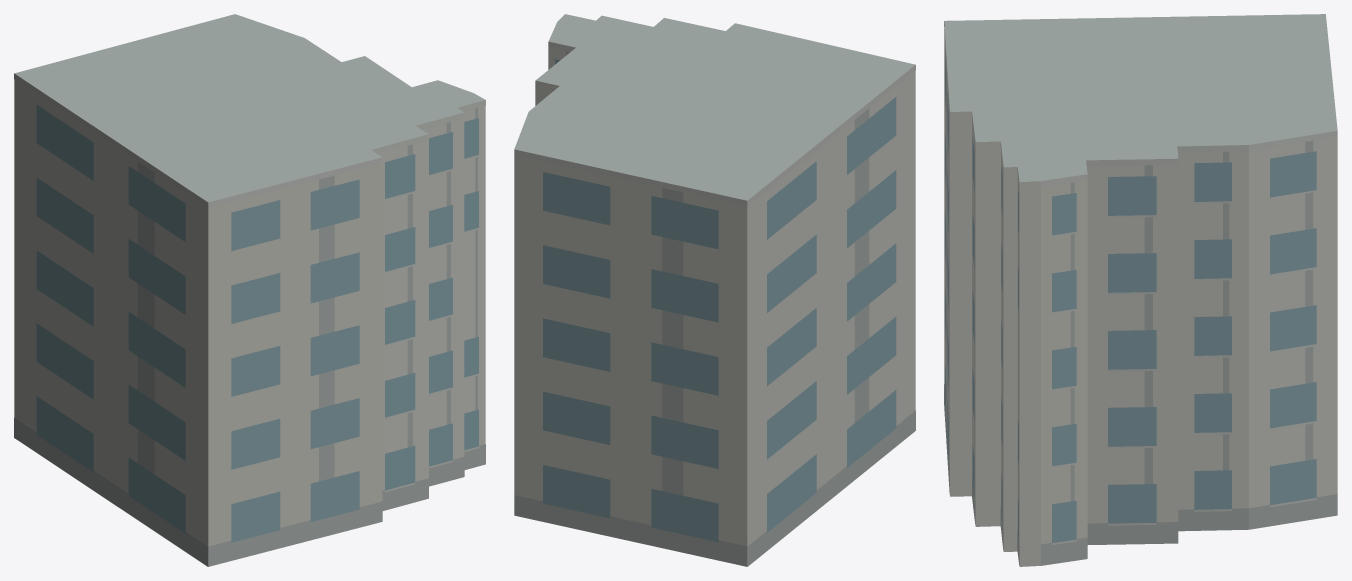
The model's file is survey-upis-32928201.glb.
The picture shows the model from 3 angles, left to right: view 1: azimuth 30°, elevation 25°; view 2: azimuth 150°, elevation 25°; view 3: azimuth 270°, elevation 25°; orthographic projection. The views are drawn at different scales.
Visible parts, largest first — view 1: survey-upis-32928201.tmp; view 2: survey-upis-32928201.tmp; view 3: survey-upis-32928201.tmp.
Part boxes in pixels (<box>): survey-upis-32928201.tmp: <box>14,14,485,566</box>; survey-upis-32928201.tmp: <box>514,14,915,566</box>; survey-upis-32928201.tmp: <box>944,14,1337,566</box>.
Size of the model in its own units: 14.3 by 15.25 by 14.14.
